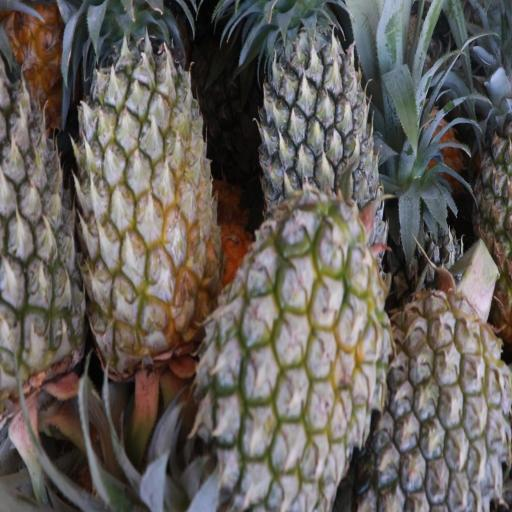------------------------------: (81, 0, 217, 367), (206, 216, 378, 499)
